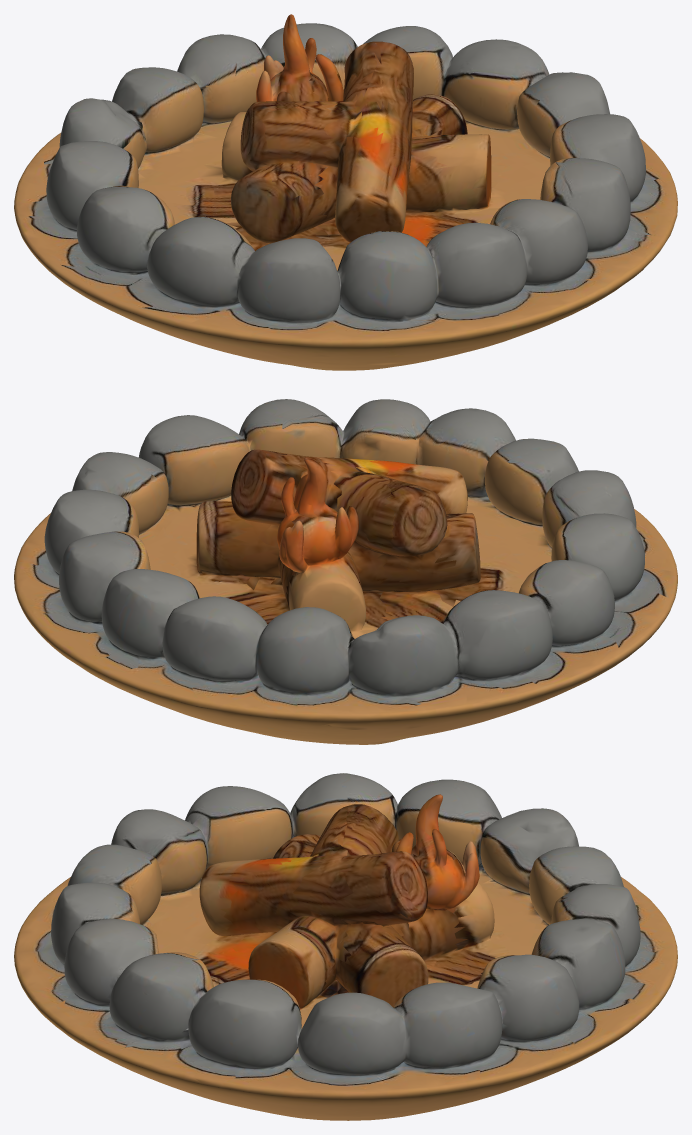
The model's file is firering.glb.
3 renders of one model, top to bottom at view 1: azimuth 30°, elevation 25°; view 2: azimuth 150°, elevation 25°; view 3: azimuth 270°, elevation 25°, orthographic.
Parts seen in each view (by area): view 1: tripo_node_6cb211e9-b35e-42b6-a49f-7a26bfea0716; view 2: tripo_node_6cb211e9-b35e-42b6-a49f-7a26bfea0716; view 3: tripo_node_6cb211e9-b35e-42b6-a49f-7a26bfea0716.
Part boxes in pixels (left/top/right/bottom): tripo_node_6cb211e9-b35e-42b6-a49f-7a26bfea0716: left=14, top=14, right=677, bottom=370; tripo_node_6cb211e9-b35e-42b6-a49f-7a26bfea0716: left=14, top=399, right=677, bottom=744; tripo_node_6cb211e9-b35e-42b6-a49f-7a26bfea0716: left=14, top=773, right=677, bottom=1120.
Size of the model in its own units: 1 by 0.4664 by 0.9983.
1 material, 1 textured.
